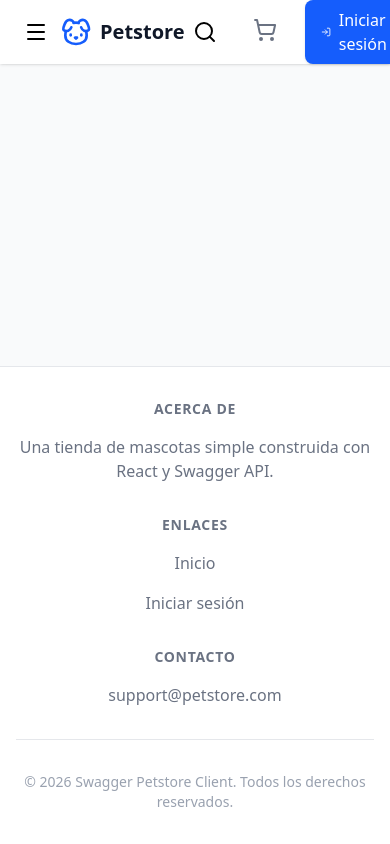
Scenario: Layout › clicking hamburger opens MobileMenu
Click the button named "Abrir menú".
click(38, 32)  # box [16,10,60,54]
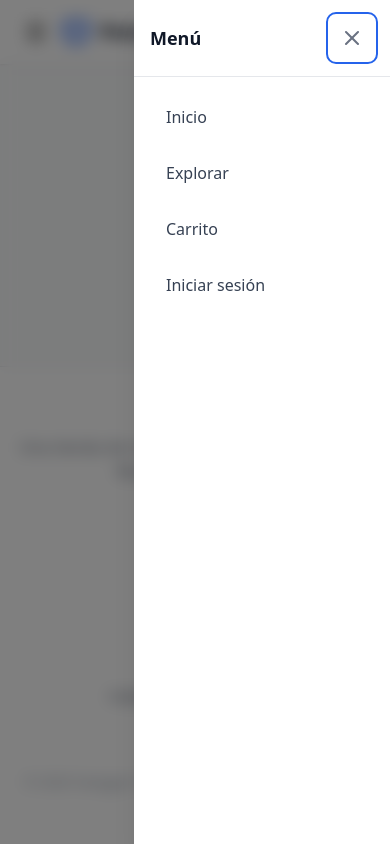
Now the dialog is shown
